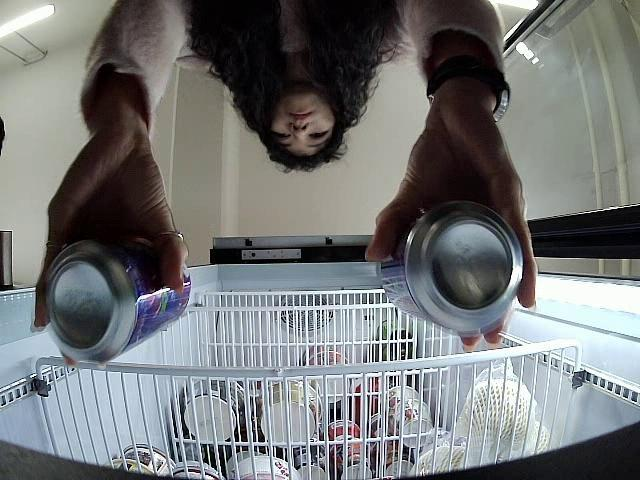14_welchsGrape: (374, 196, 524, 336), (46, 236, 192, 363)
